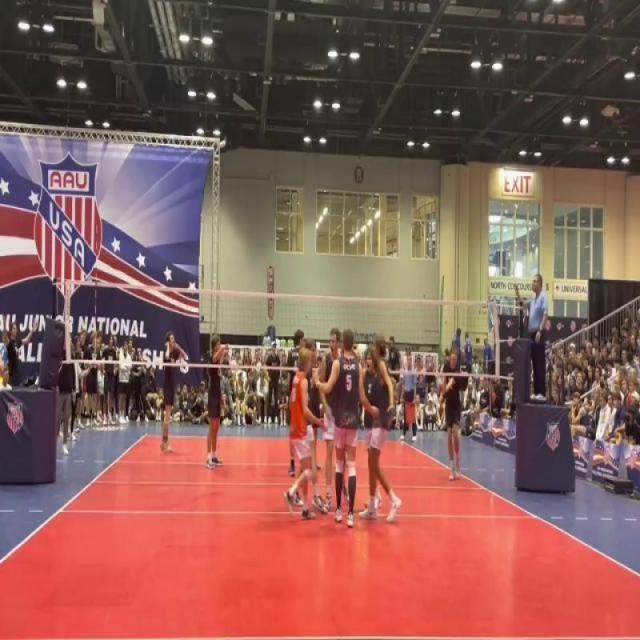volleyball: (435, 375, 446, 397)
